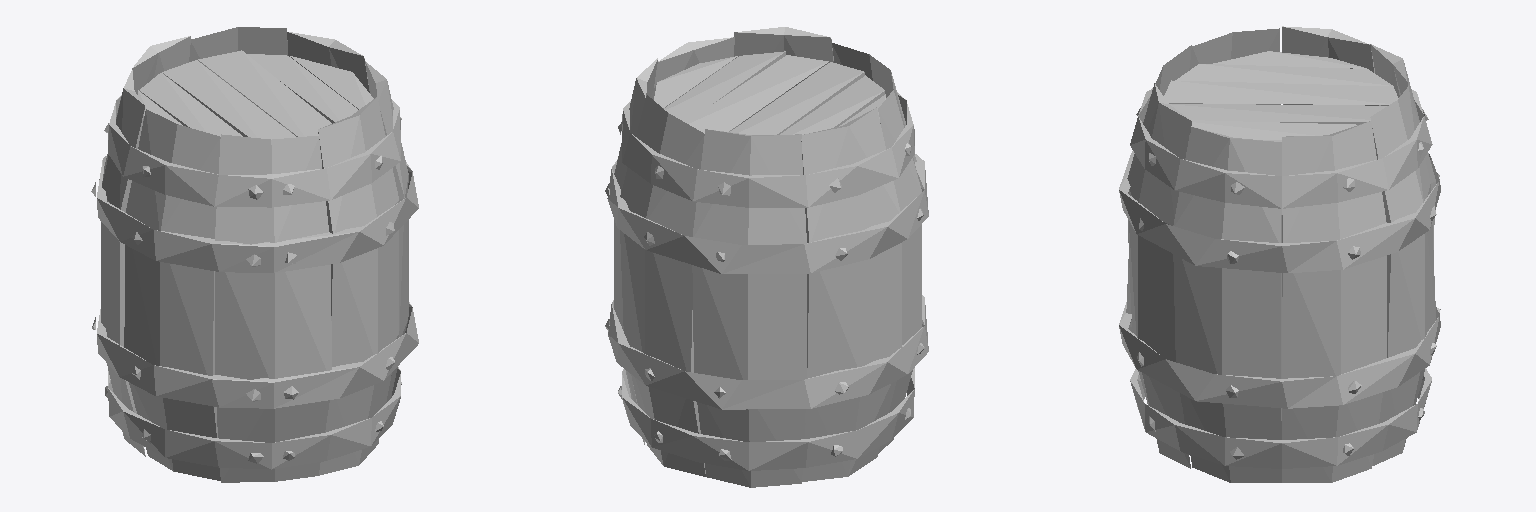
File: Barrel_quarter_OBJ.obj
3 renders of one model, left to right at view 1: azimuth 30°, elevation 25°; view 2: azimuth 150°, elevation 25°; view 3: azimuth 270°, elevation 25°, orthographic.
Visible parts, largest first — view 1: barrel; view 2: barrel; view 3: barrel.
Part boxes in pixels (bbox=[...]): barrel: bbox=[91, 27, 418, 482]; barrel: bbox=[605, 27, 928, 487]; barrel: bbox=[1119, 26, 1440, 482].
Bounding box in the file's own units: 0.7567 × 0.9132 × 0.7577.